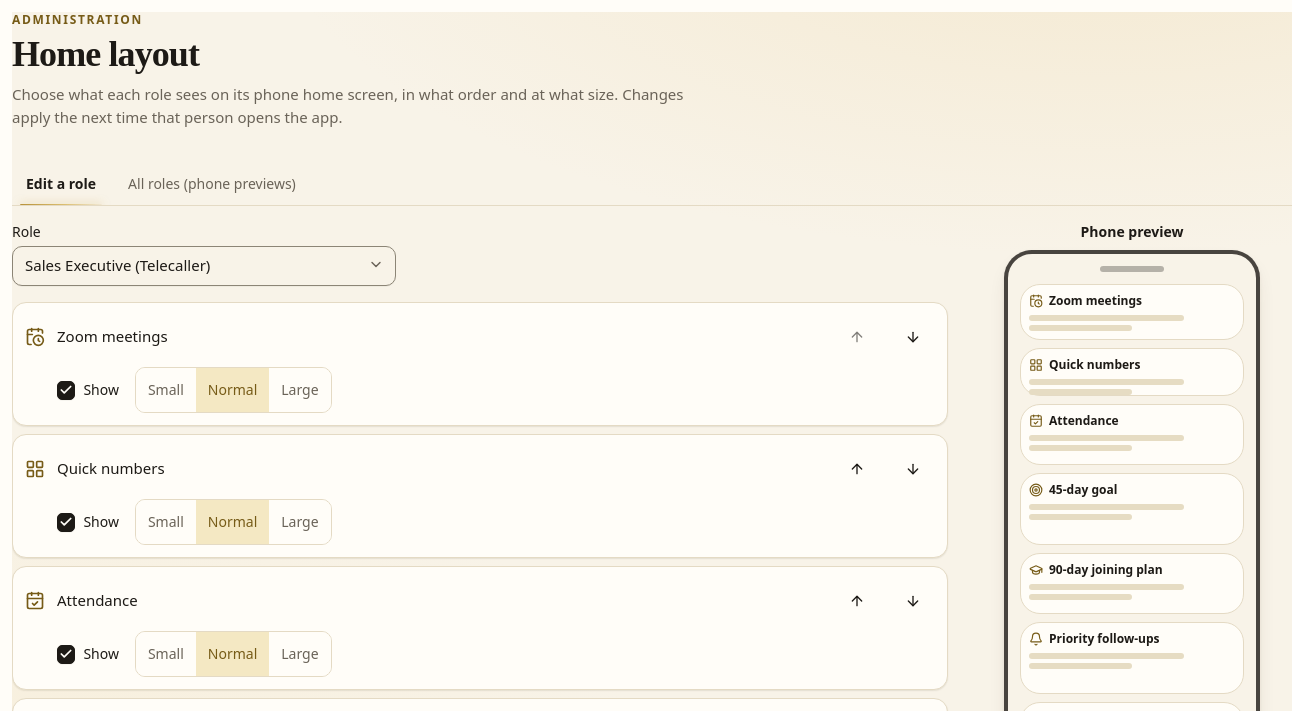
Test: home layout page › says when a widget does not apply to the chosen role
The image size is (1292, 711).
Select "HR" in the dropdown labelled "Role" at {"x": 204, "y": 266}, box [12,246,396,286]
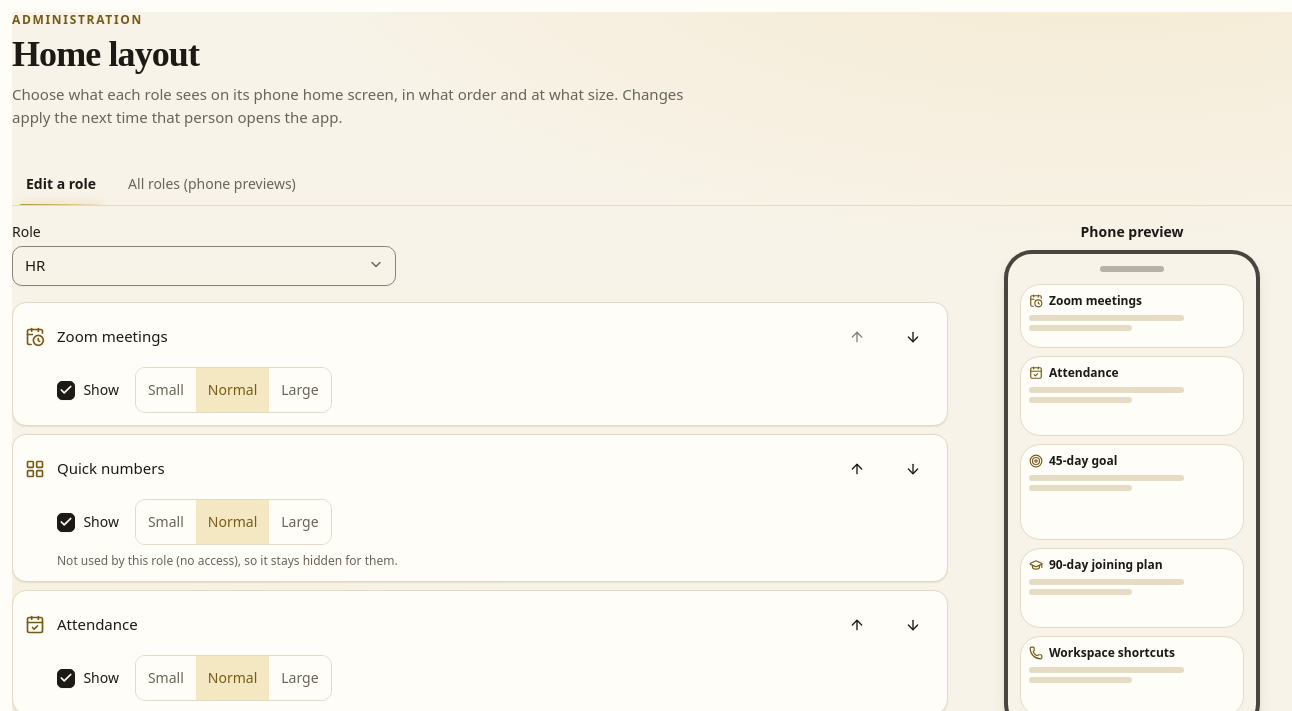
Expected: the text "Not used by this role" is shown 3 times
